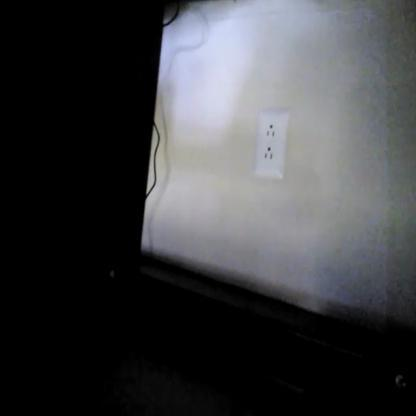OUTLET: (254, 110, 286, 178)
